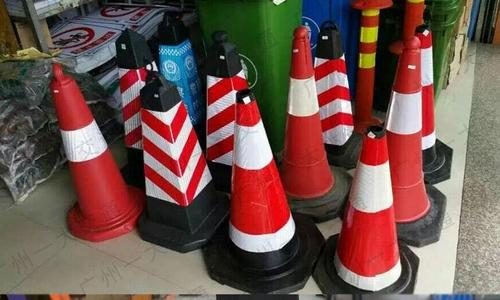cone_barrel: (48, 64, 137, 229), (136, 70, 217, 239), (220, 89, 297, 257), (329, 130, 404, 292), (277, 31, 333, 204), (385, 42, 436, 226), (199, 34, 249, 182), (113, 29, 158, 173), (311, 19, 356, 153), (413, 23, 444, 170), (352, 4, 383, 129)
